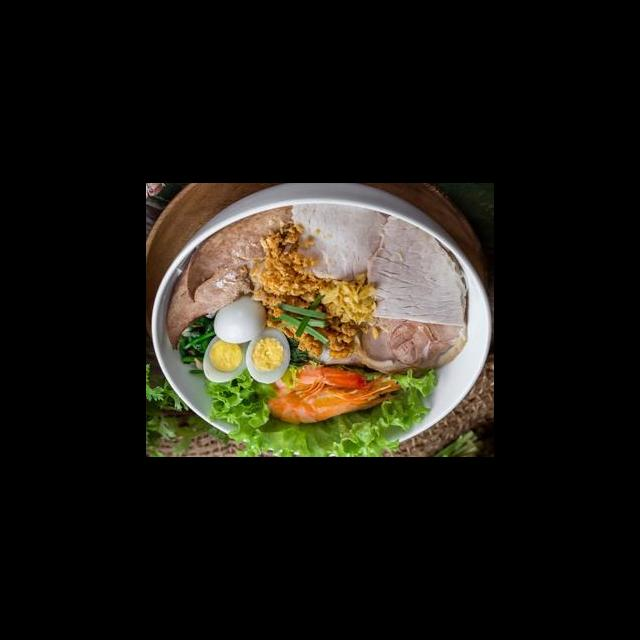gan: (181, 201, 303, 305), (161, 252, 257, 352)
thit heo: (364, 211, 470, 330), (348, 305, 470, 378), (286, 200, 389, 285)
tom: (257, 360, 404, 427)
trung: (200, 323, 256, 385), (209, 291, 271, 346), (243, 323, 294, 385)
